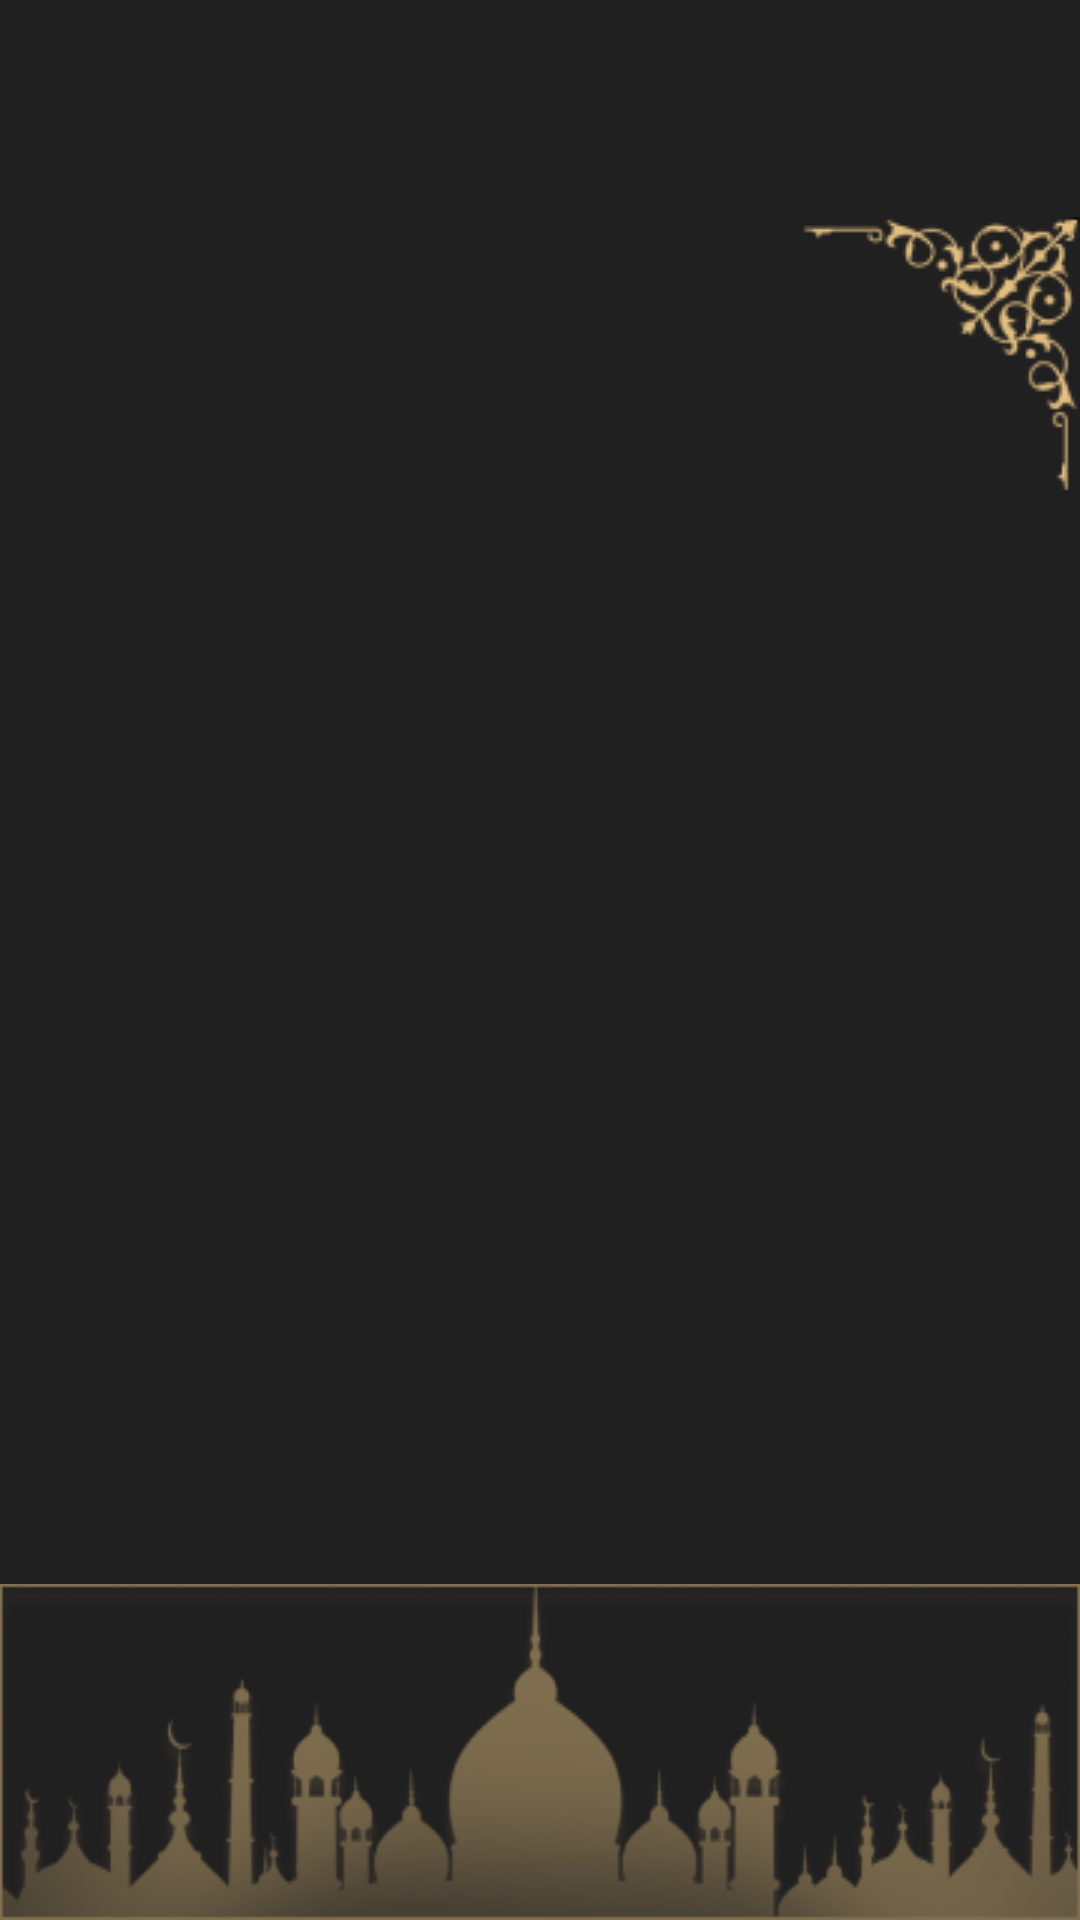

Screen size 1080 × 1920. Icon name, then its box in pixels as (x1, y1, x2, y2):
right corner: (804, 219, 1078, 491)
